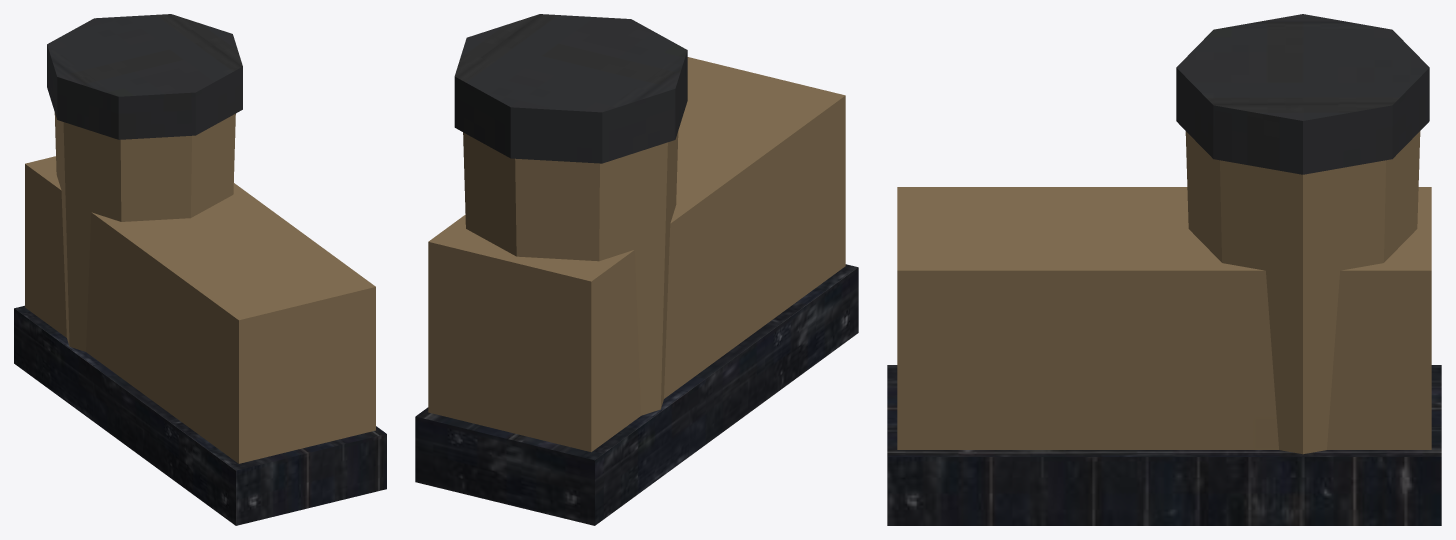
File: eq_present_2_boot.glb
The picture shows the model from 3 angles, left to right: view 1: azimuth 30°, elevation 25°; view 2: azimuth 150°, elevation 25°; view 3: azimuth 270°, elevation 25°; orthographic projection. The views are drawn at different scales.
Visible parts, largest first — view 1: eq_present_2_boot; view 2: eq_present_2_boot; view 3: eq_present_2_boot.
Boxes of the visible parts, left/top/right/bottom form: eq_present_2_boot: left=14, top=14, right=386, bottom=525; eq_present_2_boot: left=415, top=14, right=858, bottom=525; eq_present_2_boot: left=887, top=14, right=1441, bottom=525.
Size of the model in its own units: 0.1331 by 0.2392 by 0.2912.
3 materials, 3 textured.
